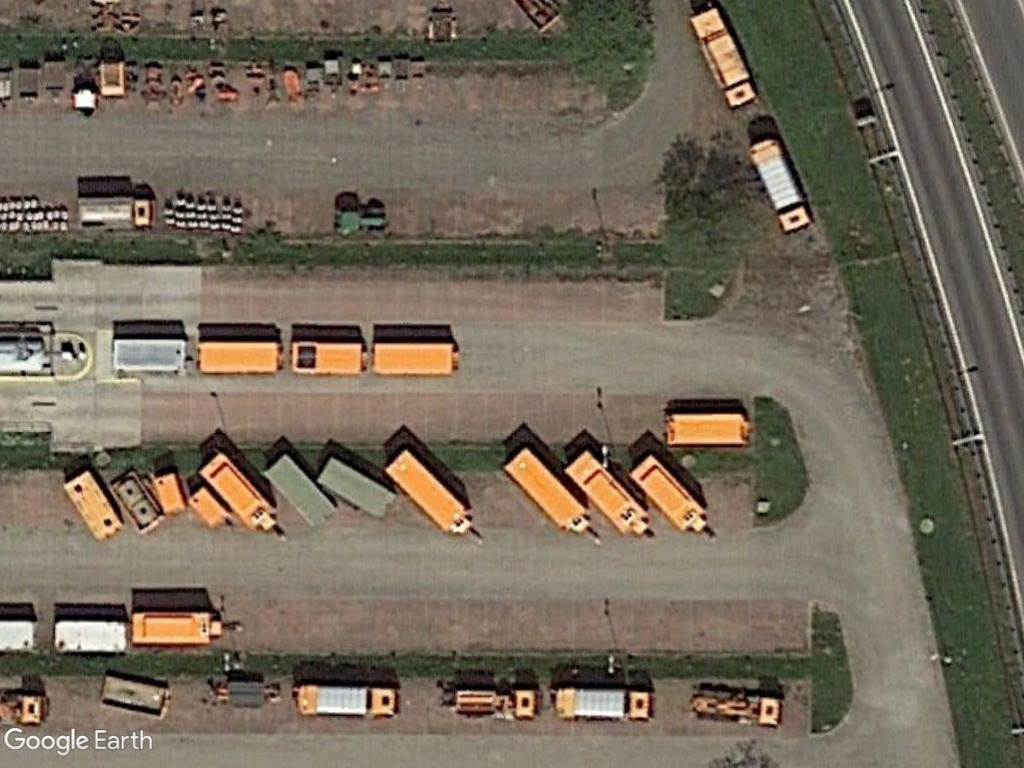truck: (687, 7, 758, 110), (748, 134, 815, 241), (292, 682, 403, 719), (551, 687, 654, 722), (74, 192, 160, 233)
